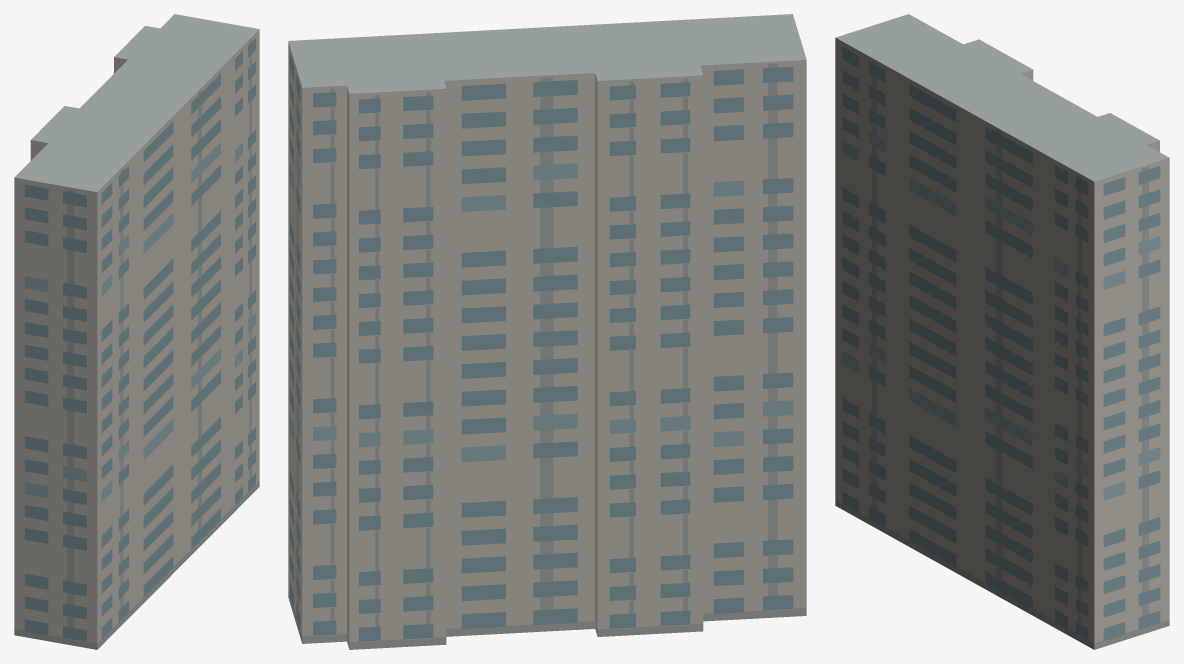
File: residential-a785fa6f-717c-4127-a6c5-2c38879b17f0.glb
3 views of the same model, side by side, from view 1: azimuth 30°, elevation 25°; view 2: azimuth 150°, elevation 25°; view 3: azimuth 270°, elevation 25° (orthographic). The views are drawn at different scales.
Parts seen in each view (by area): view 1: residential-a785fa6f-717c-4127-a6c5-2c38879b17f0.tmp; view 2: residential-a785fa6f-717c-4127-a6c5-2c38879b17f0.tmp; view 3: residential-a785fa6f-717c-4127-a6c5-2c38879b17f0.tmp.
Part boxes in pixels (x1=…): residential-a785fa6f-717c-4127-a6c5-2c38879b17f0.tmp: x1=14, y1=14, x2=259, y2=649; residential-a785fa6f-717c-4127-a6c5-2c38879b17f0.tmp: x1=288, y1=14, x2=806, y2=649; residential-a785fa6f-717c-4127-a6c5-2c38879b17f0.tmp: x1=835, y1=14, x2=1169, y2=649.
Size of the model in its own units: 42.27 by 55 by 35.58.
